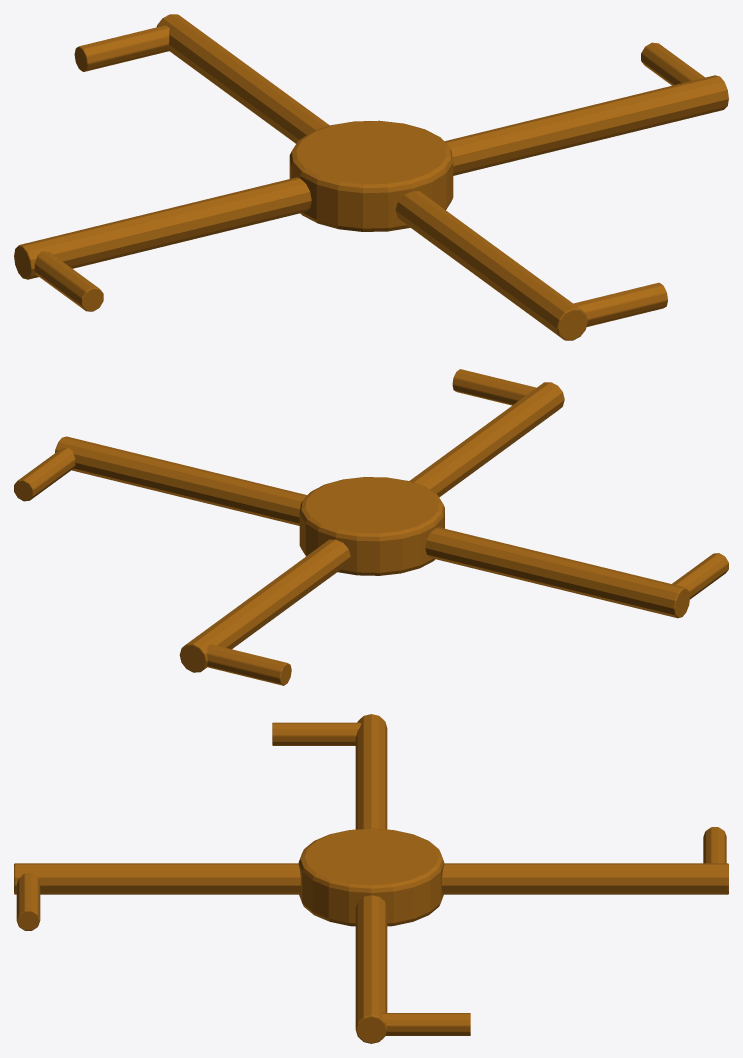
File: 5_carousel.obj
3 renders of one model, top to bottom at view 1: azimuth 30°, elevation 25°; view 2: azimuth 150°, elevation 25°; view 3: azimuth 270°, elevation 25°, orthographic. The views are drawn at different scales.
Bounding box in the file's own units: 0.54 × 0.035 × 0.54.
